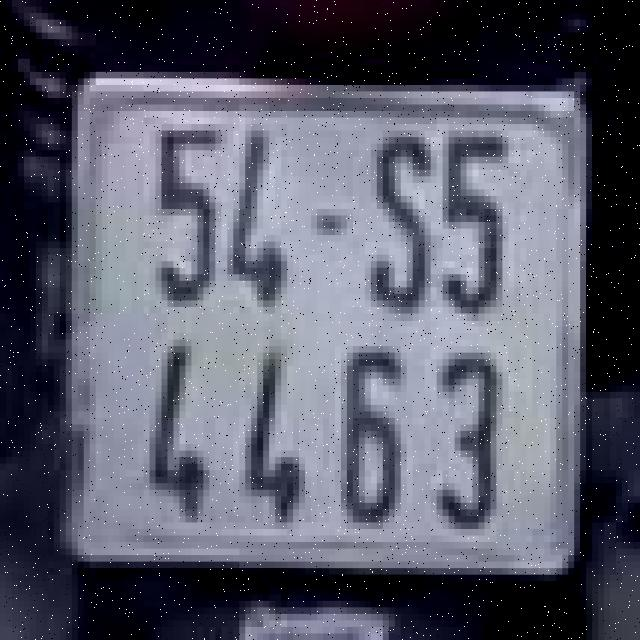3: (428, 336, 506, 539)
4: (239, 333, 323, 536), (138, 343, 227, 519), (230, 121, 302, 310)
5: (434, 118, 529, 320), (144, 111, 227, 307)
6: (332, 320, 410, 529)
S: (368, 111, 433, 327)
